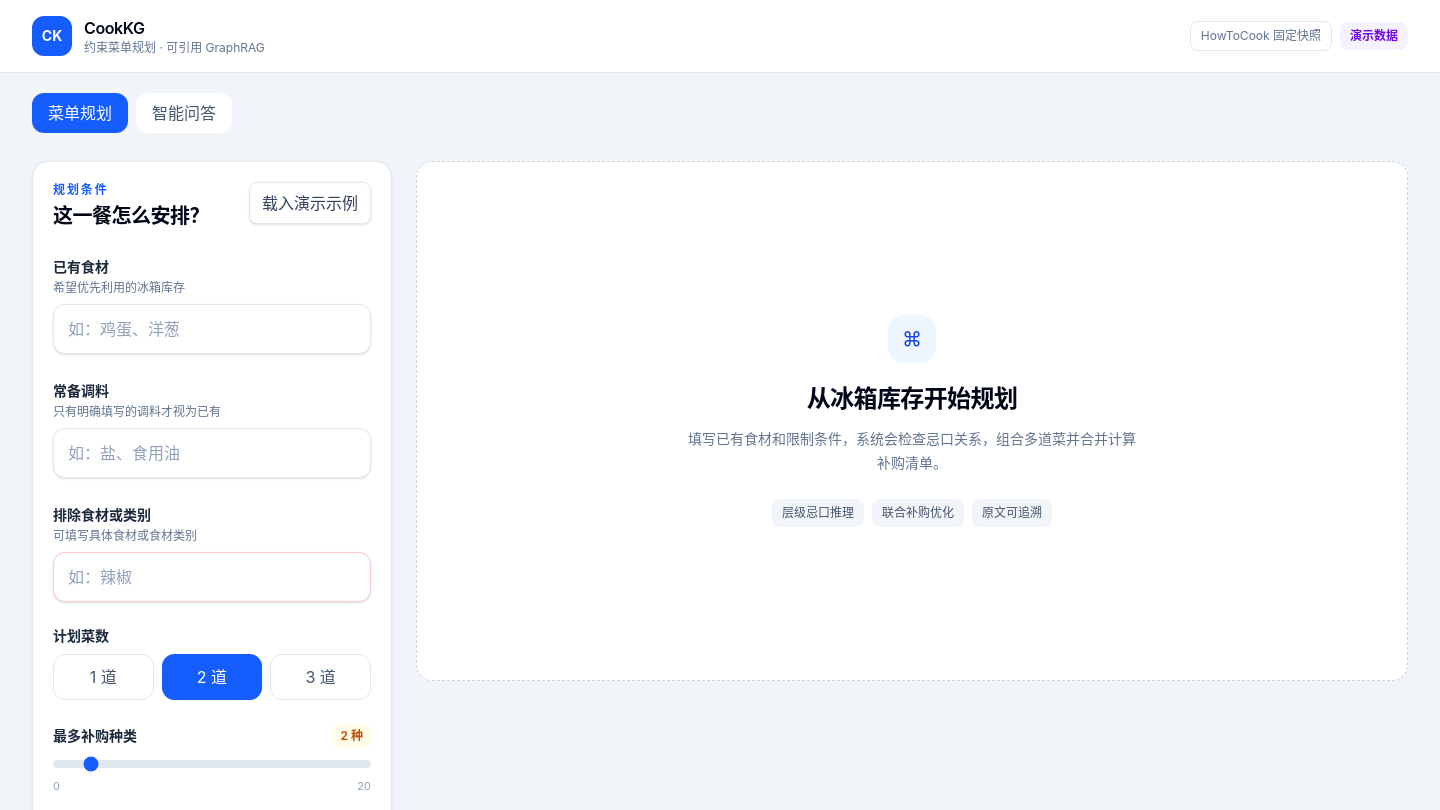
Scenario: CookKG planner page › runs the demo flow and presents ranked plans with evidence
The image size is (1440, 810).
Expected: the text "演示数据" is shown, [1340,22,1408,50]
Step 1. Click the button "载入演示示例" → [310, 203], box [249,182,371,224]
(page scrolled)
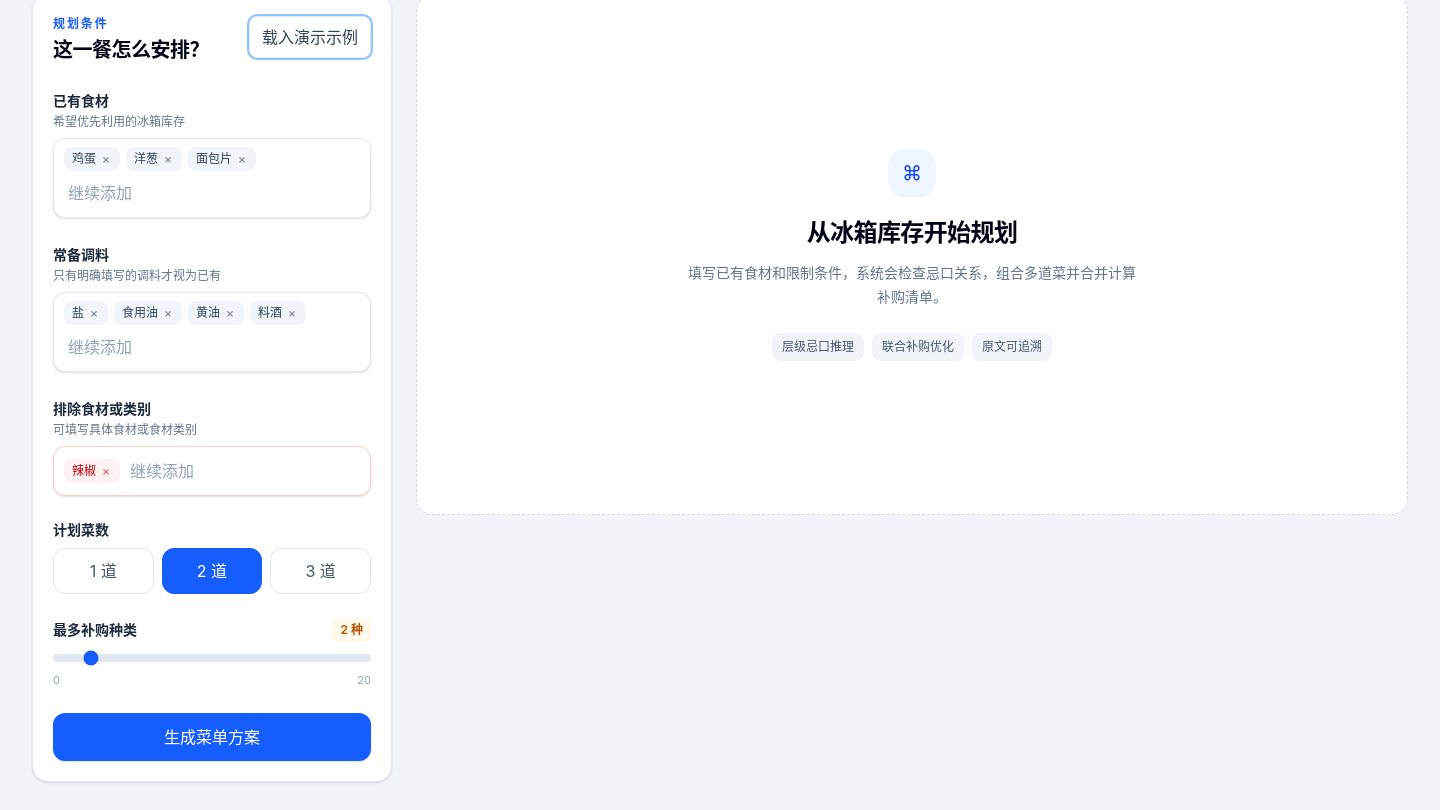
Step 2. Click the button "生成菜单方案" → [212, 736], box [53,712,371,760]
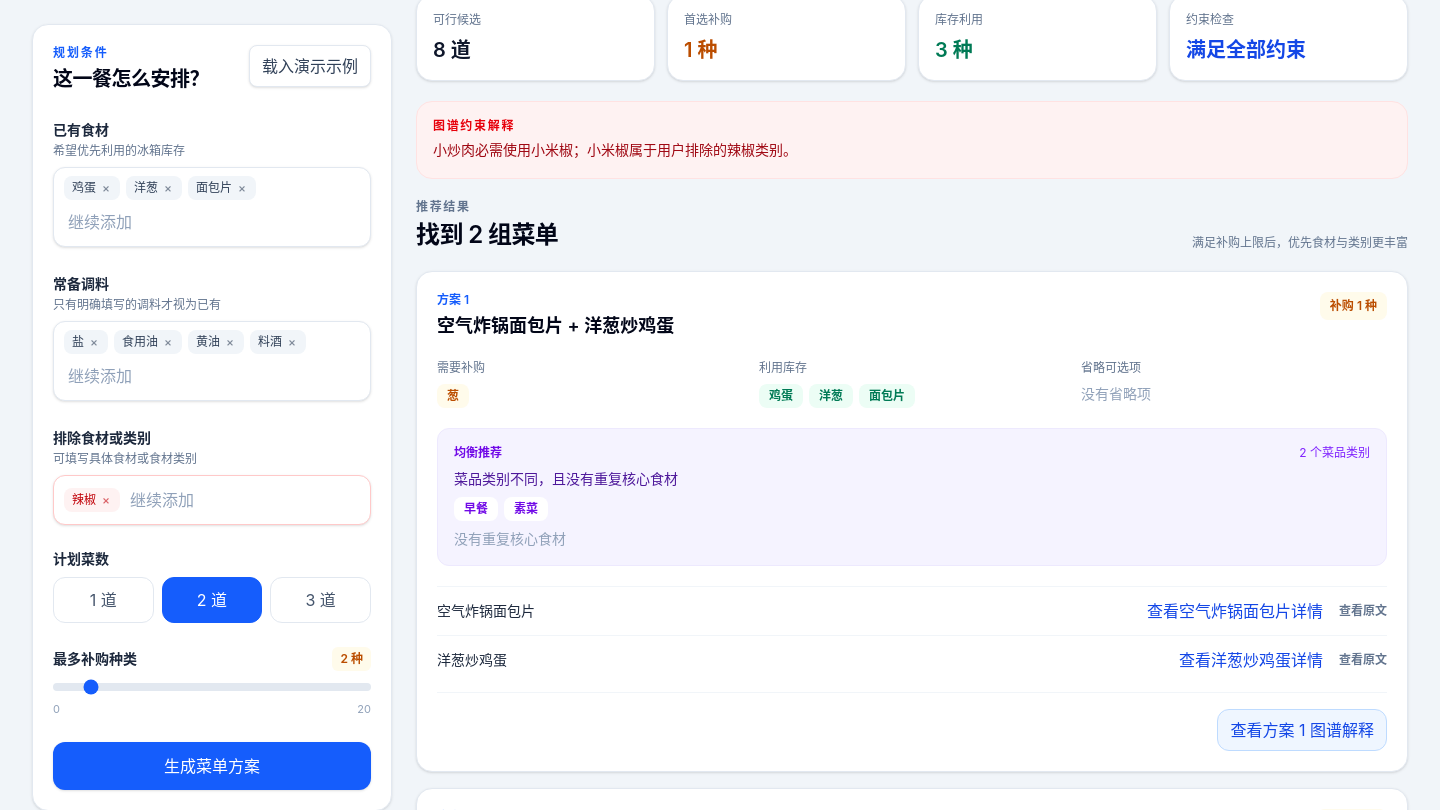
Result: the text "空气炸锅面包片" is shown at [437,601,535,621]
Result: the text "8 道" is shown at [433,38,471,62]
Result: the text "1 种" is shown at [684,38,718,62]
